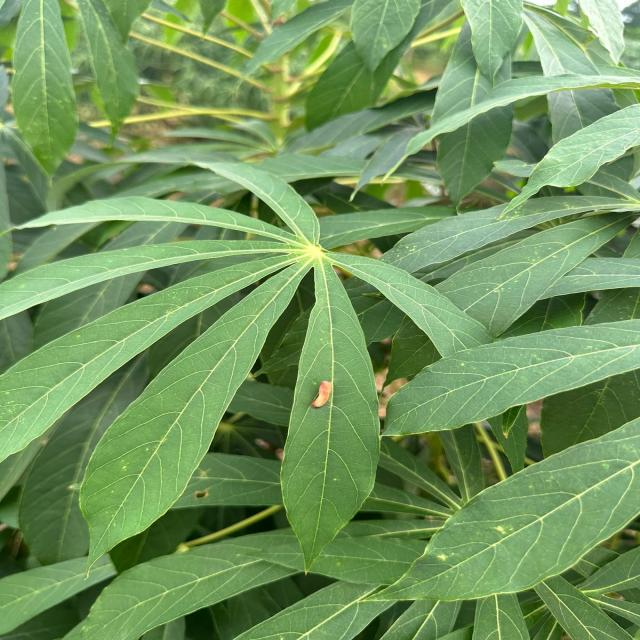Mosca: (307, 372, 343, 409), (53, 475, 91, 508), (135, 274, 163, 301)
